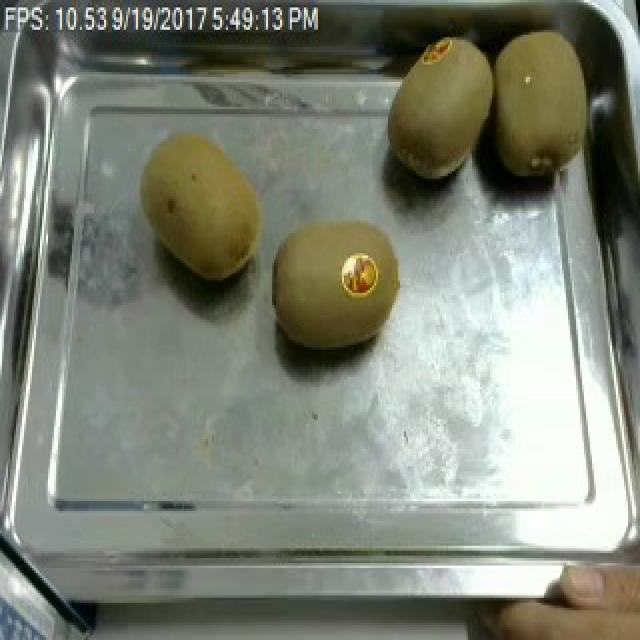Fruit: (132, 122, 272, 290), (494, 15, 606, 211), (264, 208, 402, 360), (378, 22, 494, 194)
